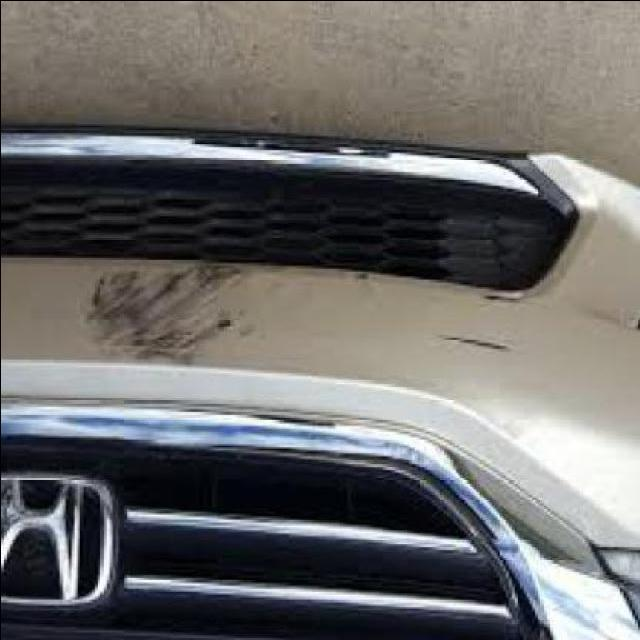front-bumper-dent: (6, 112, 640, 463), (296, 115, 640, 486)
